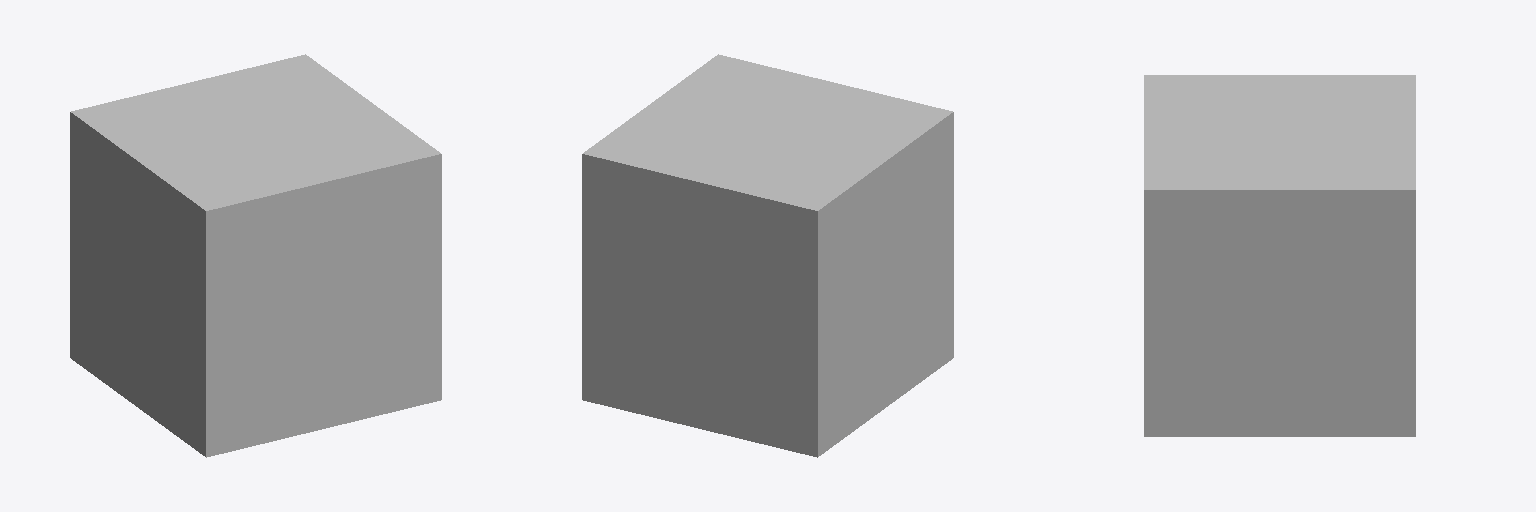
File: ispCubes.obj
The picture shows the model from 3 angles: view 1: azimuth 30°, elevation 25°; view 2: azimuth 150°, elevation 25°; view 3: azimuth 270°, elevation 25°; orthographic projection.
Bounding box in the file's own units: 0.1 × 0.1 × 0.1.